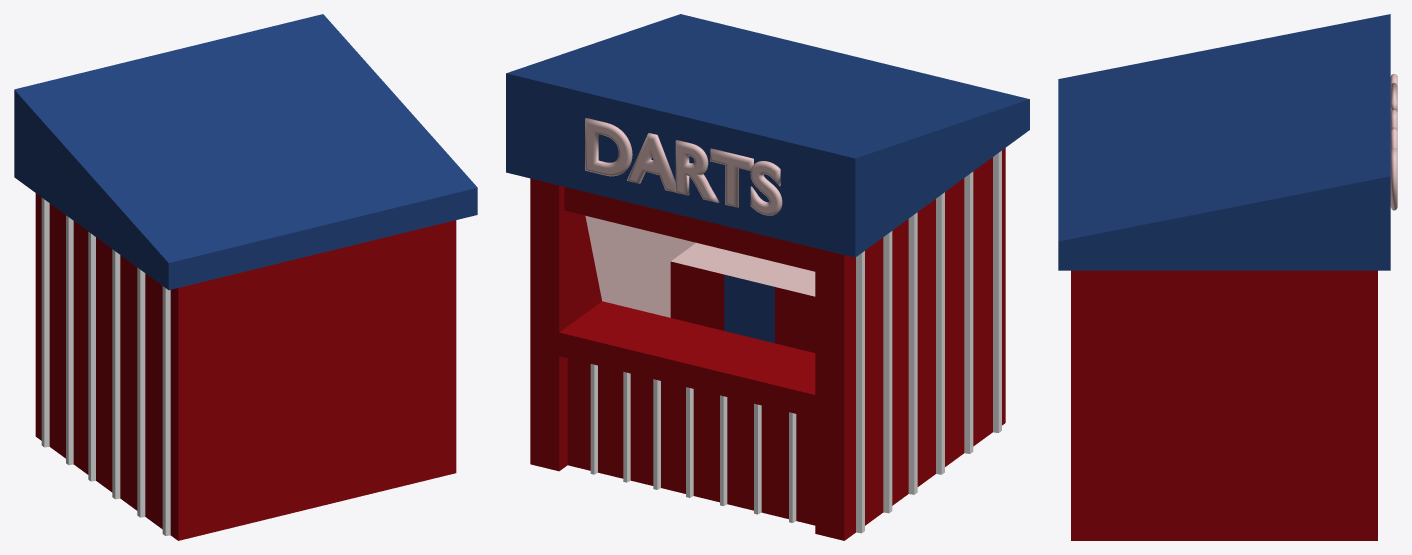
File: DARDOS_CASETA.glb
3 renders of one model, left to right at view 1: azimuth 30°, elevation 25°; view 2: azimuth 150°, elevation 25°; view 3: azimuth 270°, elevation 25°, orthographic. The views are drawn at different scales.
Visible parts, largest first — view 1: Darts; view 2: Darts; view 3: Darts.
Part boxes in pixels (bbox=[...]): Darts: bbox=[14, 14, 477, 540]; Darts: bbox=[506, 14, 1029, 540]; Darts: bbox=[1058, 14, 1397, 540].
Size of the model in its own units: 1.89 by 2.02 by 1.67.
